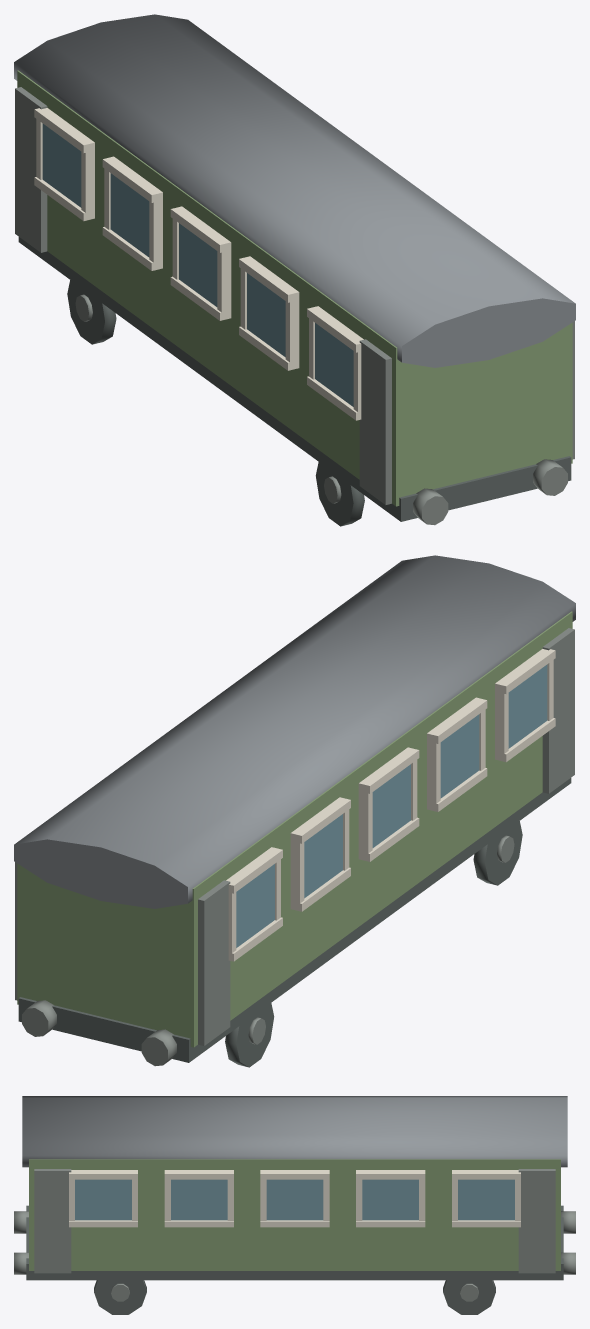
The model's file is rhine-mail_lod1.glb.
3 renders of one model, top to bottom at view 1: azimuth 30°, elevation 25°; view 2: azimuth 150°, elevation 25°; view 3: azimuth 270°, elevation 25°, orthographic. The views are drawn at different scales.
Visible parts, largest first — view 1: RF_CoachRoof, RF_CoachBody, RF_RoofLowerMask, RF_Chassis, RF_CarDoor.001, RF_CarDoor.002, RF_Window.004, RF_Window.005, RF_Window.002, RF_Window.001, RF_Window.003, RF_Wheel.003 (+16 smaller); view 2: RF_CoachRoof, RF_CoachBody, RF_RoofLowerMask, RF_Chassis, RF_CarDoor.002, RF_CarDoor.001, RF_Window.001, RF_Window.002, RF_Window.004, RF_Window.003, RF_Window.005, RF_Wheel.001 (+16 smaller); view 3: RF_CoachRoof, RF_CoachBody, RF_Chassis, RF_CarDoor.003, RF_CarDoor, RF_Window.008, RF_Window.006, RF_Window.007, RF_Window.009, RF_Window, RF_RoofLowerMask, RF_Wheel.002 (+21 smaller).
Part boxes in pixels (x1=…): RF_CoachRoof: x1=14, y1=14, x2=575, y2=367; RF_CoachBody: x1=17, y1=70, x2=572, y2=506; RF_RoofLowerMask: x1=17, y1=78, x2=572, y2=439; RF_Chassis: x1=18, y1=237, x2=571, y2=521; RF_CarDoor.001: x1=359, y1=339, x2=391, y2=504; RF_CarDoor.002: x1=15, y1=87, x2=47, y2=252; RF_Window.004: x1=110, y1=173, x2=149, y2=257; RF_Window.005: x1=42, y1=123, x2=81, y2=207; RF_Window.002: x1=247, y1=273, x2=285, y2=357; RF_Window.001: x1=315, y1=323, x2=353, y2=406; RF_Window.003: x1=179, y1=223, x2=217, y2=306; RF_Wheel.003: x1=67, y1=280, x2=116, y2=344; RF_CoachRoof: x1=14, y1=555, x2=575, y2=908; RF_CoachBody: x1=17, y1=611, x2=572, y2=1047; RF_RoofLowerMask: x1=17, y1=619, x2=572, y2=980; RF_Chassis: x1=18, y1=778, x2=571, y2=1062; RF_CarDoor.002: x1=198, y1=880, x2=230, y2=1045; RF_CarDoor.001: x1=542, y1=628, x2=574, y2=793; RF_Window.001: x1=508, y1=664, x2=547, y2=748; RF_Window.002: x1=440, y1=714, x2=479, y2=798; RF_Window.004: x1=304, y1=814, x2=342, y2=898; RF_Window.003: x1=372, y1=764, x2=410, y2=847; RF_Window.005: x1=236, y1=864, x2=274, y2=947; RF_Wheel.001: x1=473, y1=821, x2=522, y2=885; RF_CoachRoof: x1=22, y1=1096, x2=567, y2=1167; RF_CoachBody: x1=29, y1=1159, x2=560, y2=1270; RF_Chassis: x1=26, y1=1205, x2=563, y2=1280; RF_CarDoor.003: x1=34, y1=1169, x2=71, y2=1273; RF_CarDoor: x1=518, y1=1169, x2=555, y2=1273; RF_Window.008: x1=266, y1=1179, x2=323, y2=1220; RF_Window.006: x1=75, y1=1179, x2=131, y2=1220; RF_Window.007: x1=171, y1=1179, x2=227, y2=1220; RF_Window.009: x1=362, y1=1179, x2=418, y2=1220; RF_Window: x1=458, y1=1179, x2=514, y2=1220; RF_RoofLowerMask: x1=29, y1=1164, x2=560, y2=1223; RF_Wheel.002: x1=94, y1=1280, x2=146, y2=1314.
Size of the model in its own units: 3.16 by 3.73 by 10.98.
